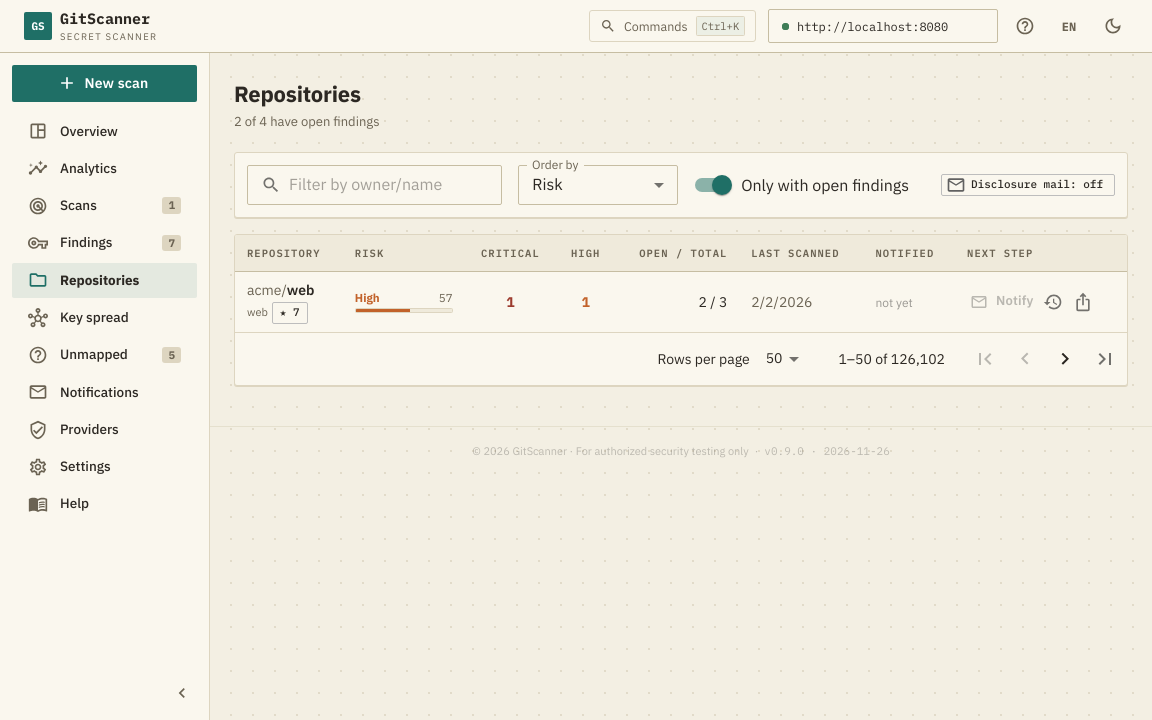
share links › creates a summary link by default and shows it once
Click the button named "Share results of acme/web" at (1083, 302), box [1068,286,1098,316]
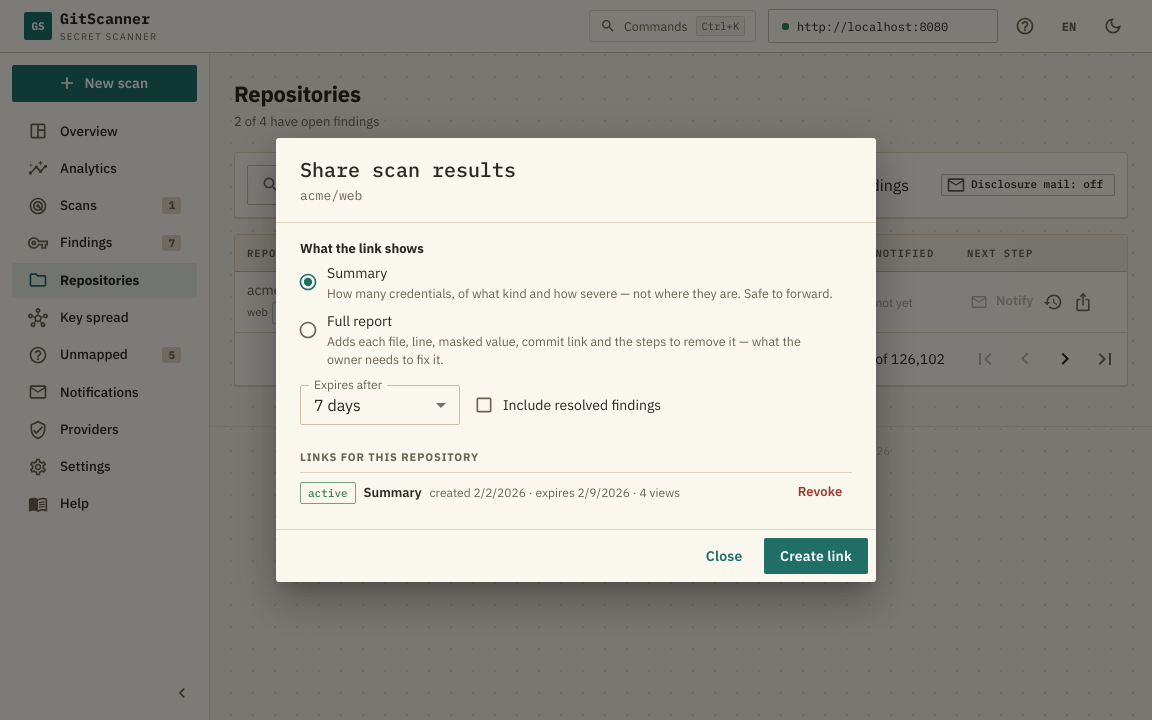
Expected: the radio button labelled "Summary" is checked, [289,263,836,303]
Expected: the text "created 2/2/2026 · expires 2/9/2026 · 4 views" is shown, [430,485,680,500]
Click the button "Create link" at (816, 556), box [764,538,868,574]
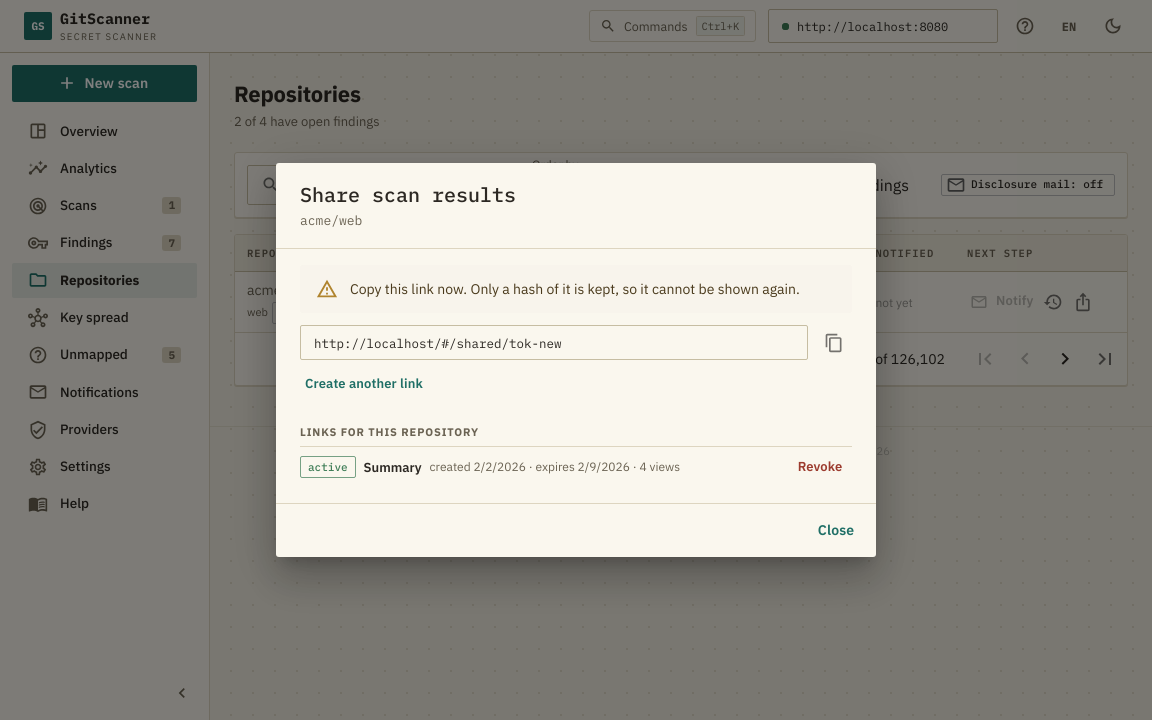
Expected: the text "cannot be shown again" is shown, [350,280,800,298]
